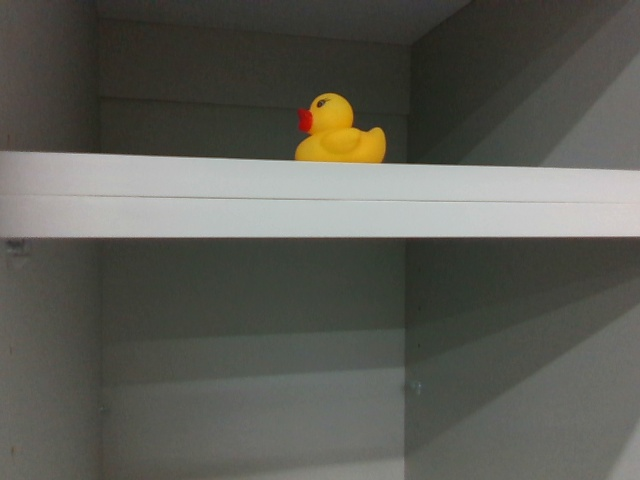duck: (294, 87, 390, 163)
